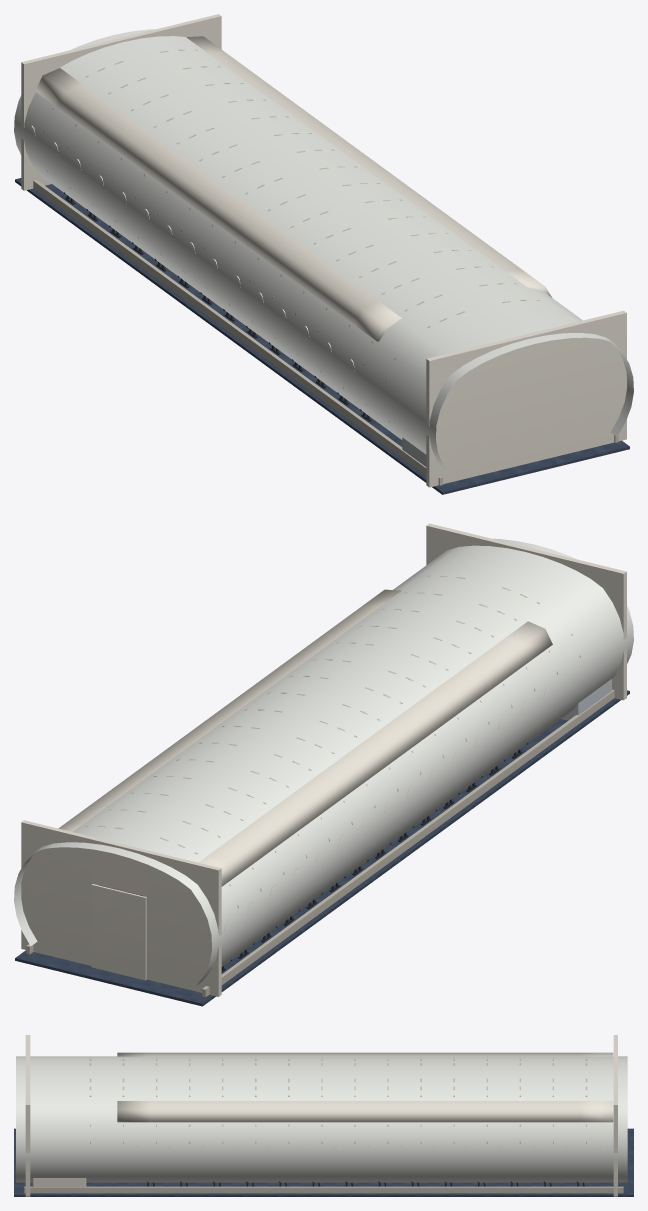
The picture shows the model from 3 angles, top to bottom: view 1: azimuth 30°, elevation 25°; view 2: azimuth 150°, elevation 25°; view 3: azimuth 270°, elevation 25°; orthographic projection. The views are drawn at different scales.
Parts seen in each view (by area): view 1: plane_LOD0; view 2: plane_LOD0; view 3: plane_LOD0.
Part boxes in pixels (x1=…): plane_LOD0: x1=14, y1=14, x2=633, y2=494; plane_LOD0: x1=14, y1=523, x2=633, y2=1006; plane_LOD0: x1=14, y1=1035, x2=633, y2=1196.
Size of what is drawn, in the model's own units: 8.03 by 5 by 30.
Materials: 15 (4 with a texture image).
